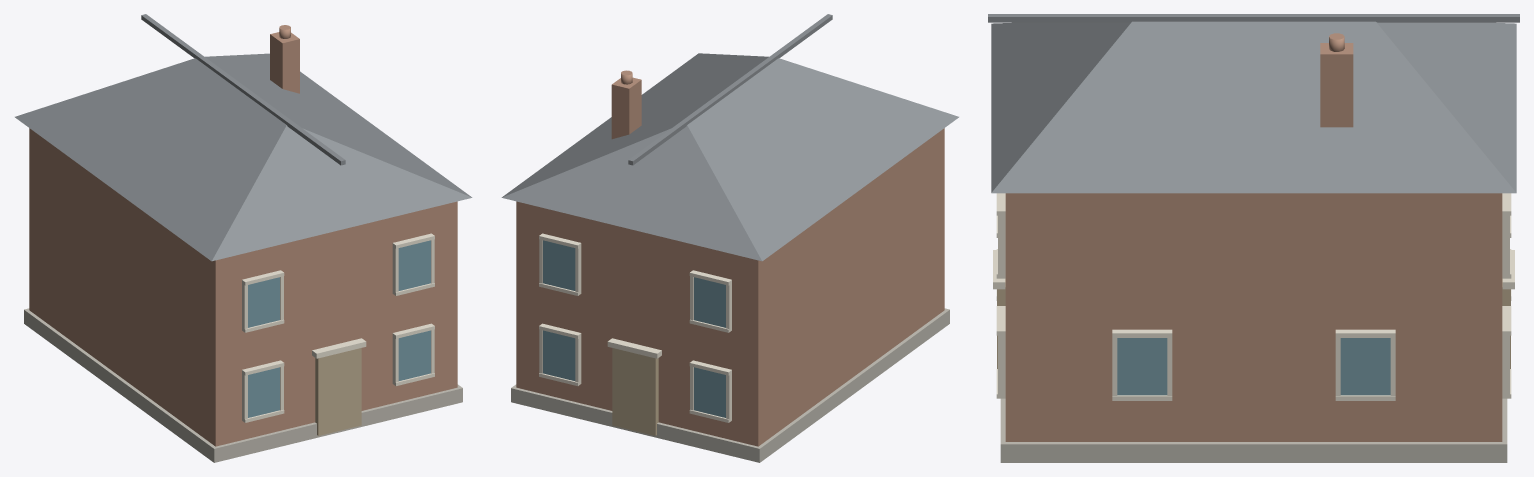
File: tyne-villa_lod1.glb
The picture shows the model from 3 angles, left to right: view 1: azimuth 30°, elevation 25°; view 2: azimuth 150°, elevation 25°; view 3: azimuth 270°, elevation 25°; orthographic projection. The views are drawn at different scales.
Visible parts, largest first — view 1: RF_Body, RF_HippedRoof, RF_Foundation, RF_Door.001, RF_Ridge, RF_Chimney, RF_Window.003, RF_Window.004, RF_Window.002, RF_Window.001, RF_DoorLintel.001; view 2: RF_Body, RF_HippedRoof, RF_Foundation, RF_Door, RF_Ridge, RF_Chimney, RF_Window.007, RF_Window.008, RF_Window.006, RF_Window.005, RF_DoorLintel; view 3: RF_Body, RF_HippedRoof, RF_Foundation, RF_Ridge, RF_Window.009, RF_Window, RF_Chimney, RF_WindowFrame.008, RF_WindowFrame.016, RF_WindowFrame.006, RF_WindowFrame.014.
Part boxes in pixels (x1,y1,x2,y2): RF_Body: (29,128,457,446); RF_HippedRoof: (15,53,472,261); RF_Foundation: (24,308,462,462); RF_Door.001: (315,348,361,435); RF_Ridge: (141,14,345,165); RF_Chimney: (270,32,299,93); RF_Window.003: (398,330,430,380); RF_Window.004: (398,240,430,290); RF_Window.002: (248,277,279,327); RF_Window.001: (248,367,279,417); RF_DoorLintel.001: (312,338,366,358); RF_Body: (516,128,944,446); RF_HippedRoof: (501,53,958,261); RF_Foundation: (511,308,949,462); RF_Door: (612,348,658,435); RF_Ridge: (628,14,832,165); RF_Chimney: (611,77,641,139); RF_Window.007: (543,330,575,380); RF_Window.008: (543,240,575,290); RF_Window.006: (694,277,725,327); RF_Window.005: (694,367,725,417); RF_DoorLintel: (607,338,661,358); RF_Body: (1005,193,1502,441); RF_HippedRoof: (991,21,1516,193); RF_Foundation: (1000,398,1507,462); RF_Ridge: (988,14,1519,22); RF_Window.009: (1117,338,1167,395); RF_Window: (1340,338,1390,395); RF_Chimney: (1320,43,1353,127); RF_WindowFrame.008: (998,209,1005,278); RF_WindowFrame.016: (1502,209,1509,278); RF_WindowFrame.006: (998,329,1005,398); RF_WindowFrame.014: (1502,329,1509,398).
Bounding box in the file's own units: 9.7 × 10.47 × 12.85.
